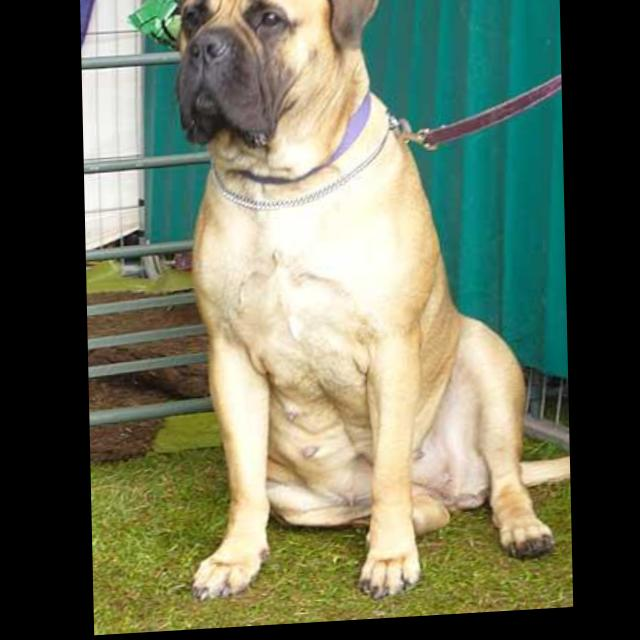bullmastiff: (175, 1, 572, 615)
